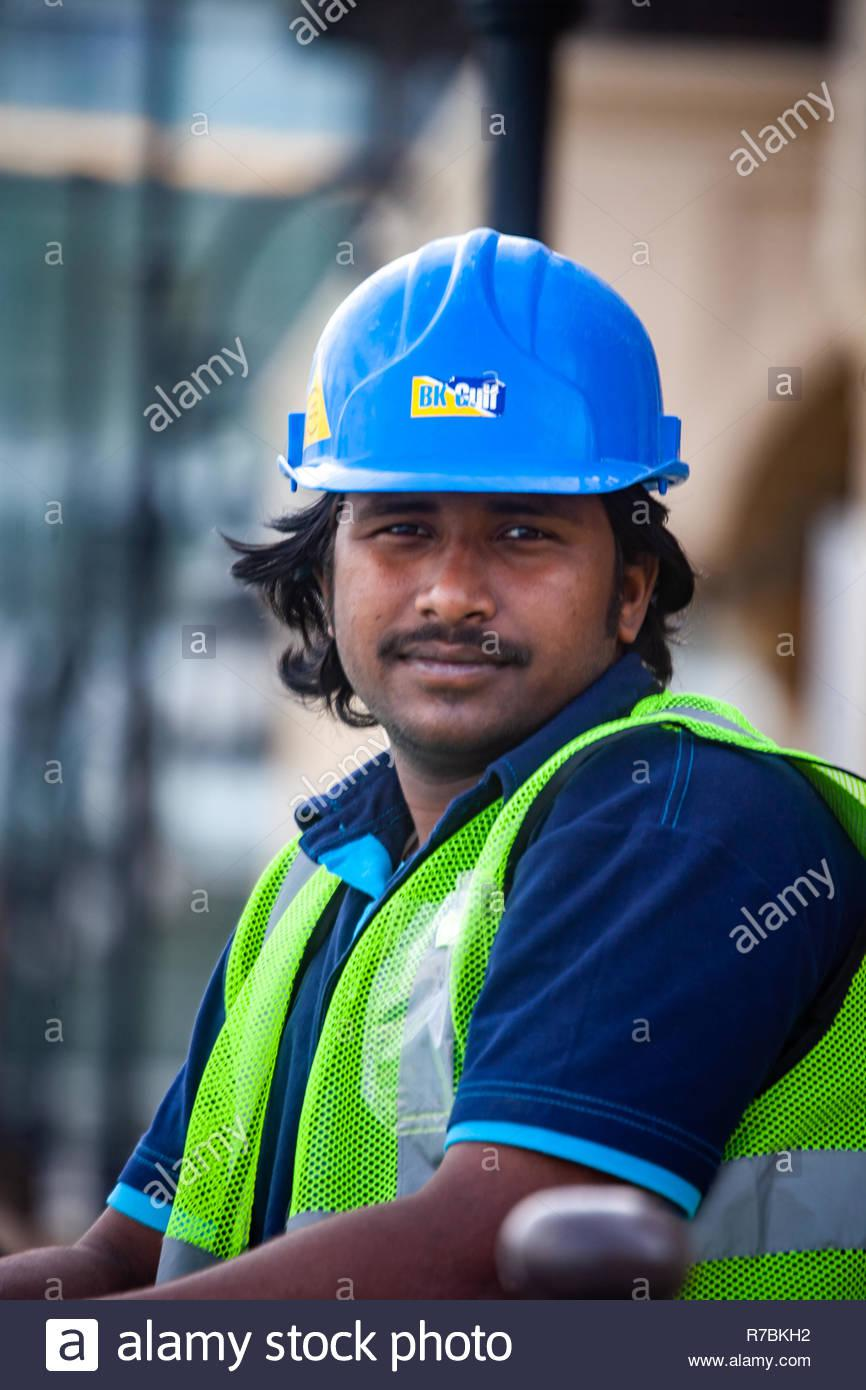hardhat: (278, 225, 700, 502)
worker: (5, 225, 866, 1300)
